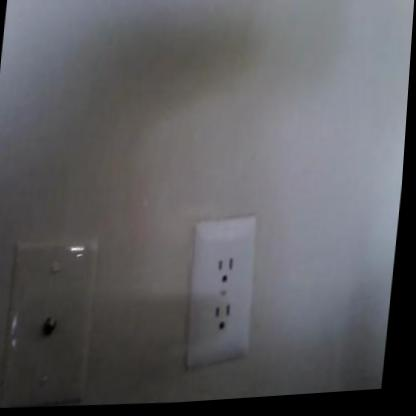OUTLET: (183, 214, 262, 365)
